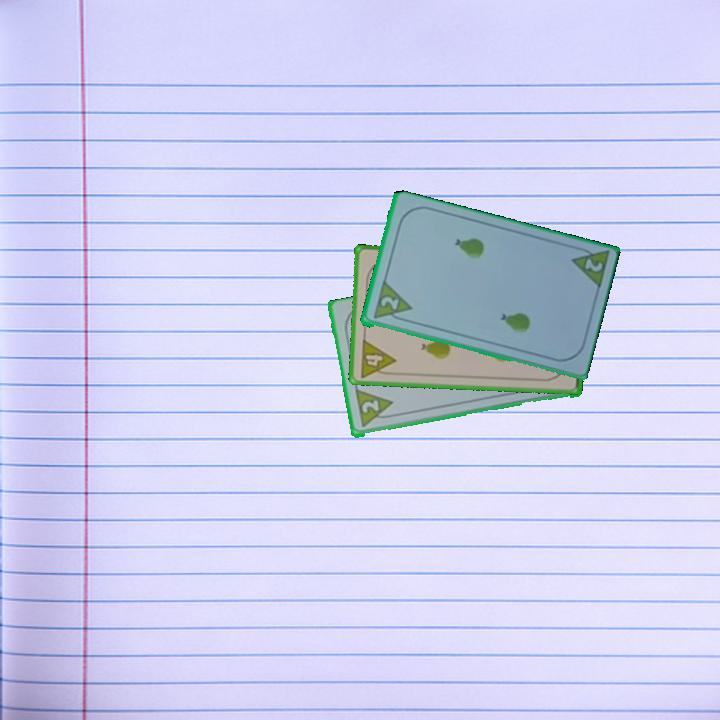2p: (567, 243, 611, 293), (369, 279, 414, 325), (352, 387, 397, 431)
4p: (356, 336, 398, 380)
